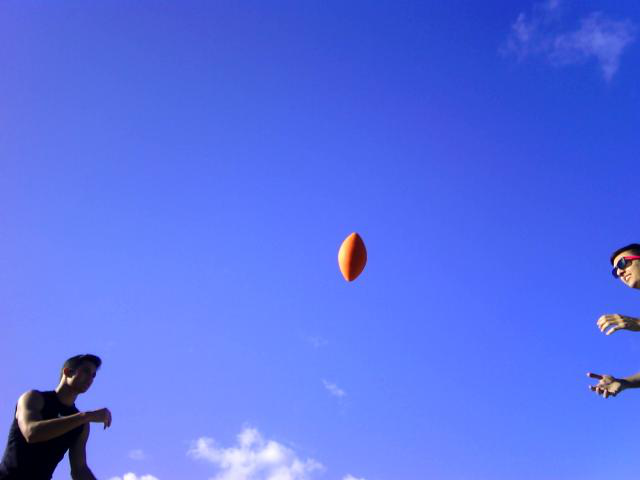football: (333, 228, 368, 287)
